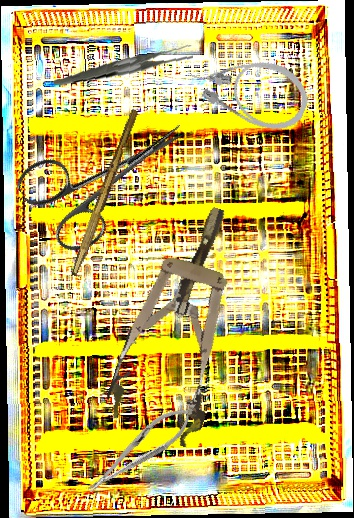Cannula: (182, 36, 317, 140)
Dressing Forceps: (53, 33, 195, 97)
Iris Scissors: (11, 85, 209, 263)
Needle Holder: (78, 397, 202, 503)
Scalpel Handle: (70, 107, 140, 279)
Speculum: (99, 193, 268, 451)
